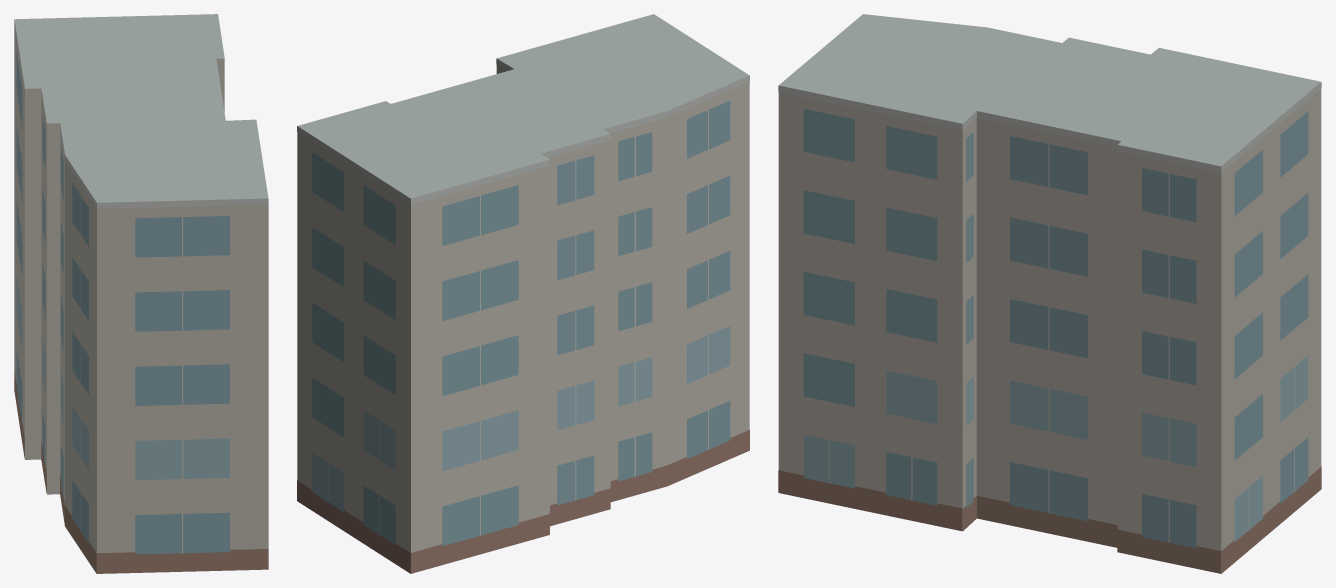
Rendered from survey-upis-32541147.glb.
3 renders of one model, left to right at view 1: azimuth 30°, elevation 25°; view 2: azimuth 150°, elevation 25°; view 3: azimuth 270°, elevation 25°, orthographic. The views are drawn at different scales.
Visible parts, largest first — view 1: survey-upis-32541147.tmp; view 2: survey-upis-32541147.tmp; view 3: survey-upis-32541147.tmp.
Part boxes in pixels (x1=…): survey-upis-32541147.tmp: x1=14, y1=14, x2=268, y2=573; survey-upis-32541147.tmp: x1=297, y1=14, x2=749, y2=573; survey-upis-32541147.tmp: x1=778, y1=14, x2=1321, y2=573.
Size of the model in its own units: 11.88 by 14.8 by 17.88.
